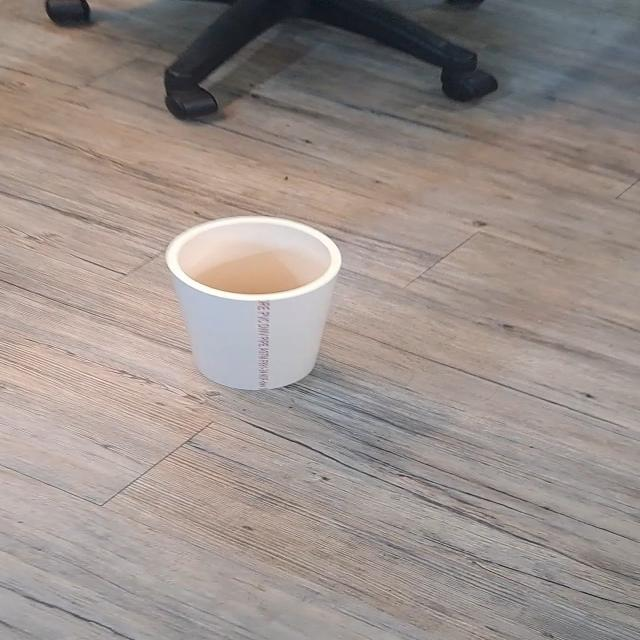CORAL: (158, 210, 362, 405)
